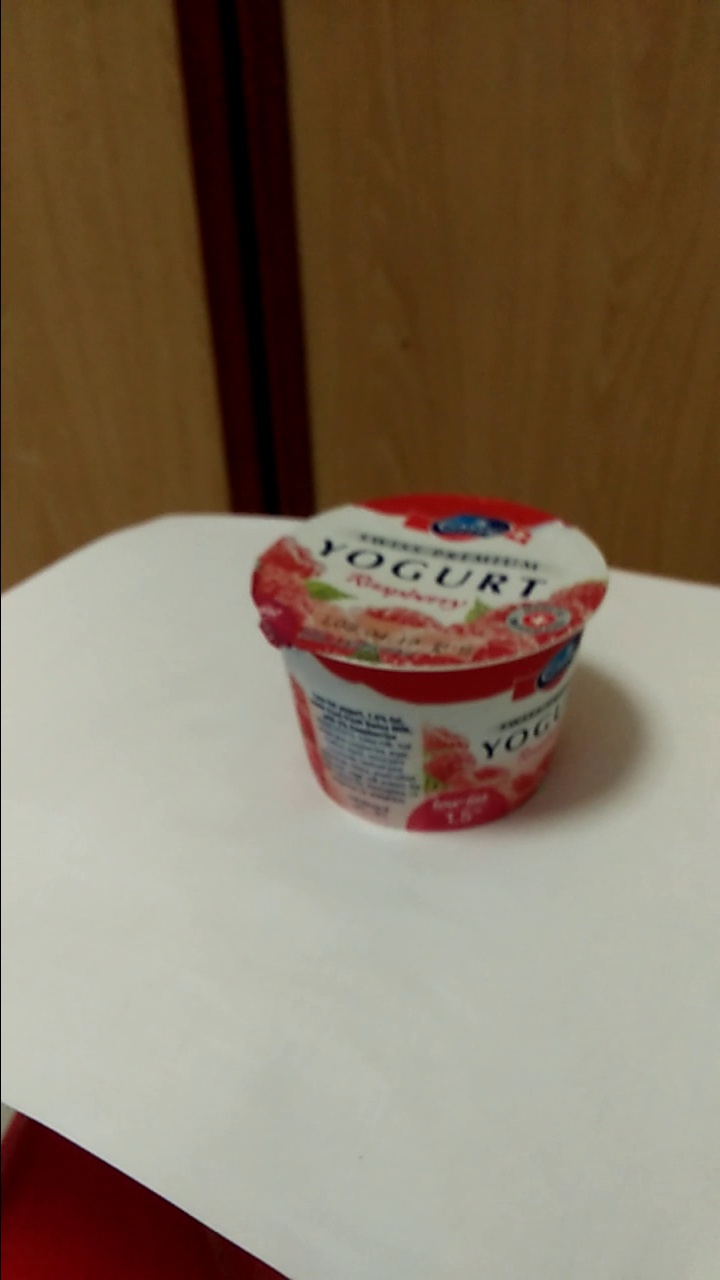yogurt: (264, 484, 605, 831)
